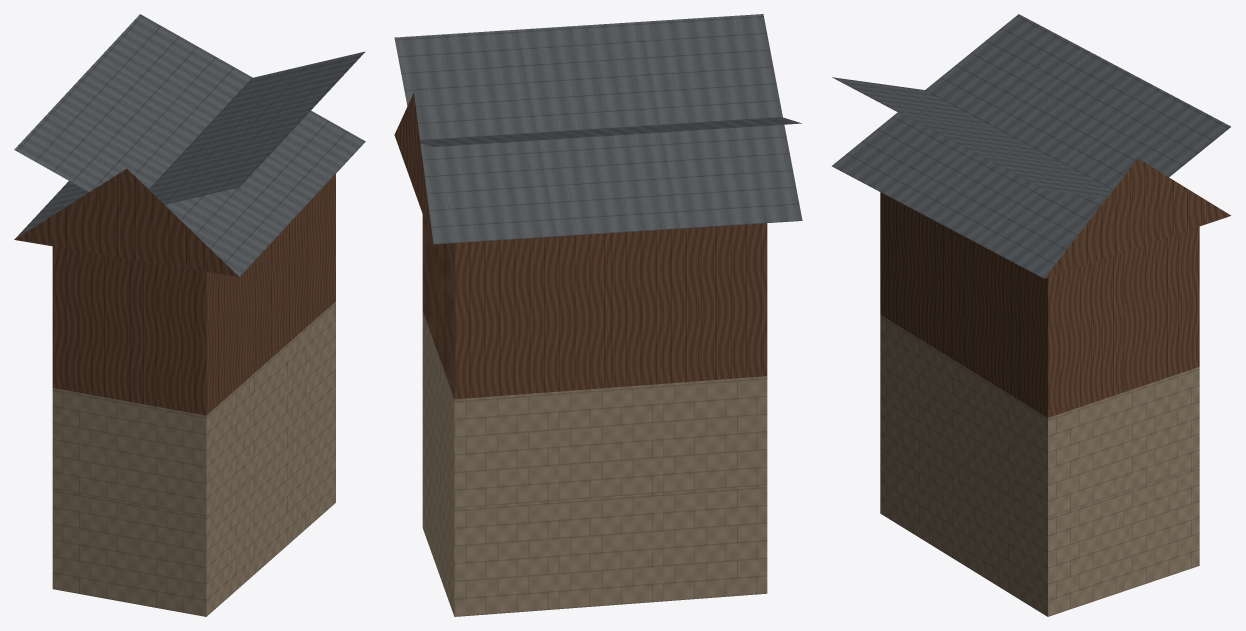
The model's file is bld_c44_-40_420.gltf.
The picture shows the model from 3 angles, left to right: view 1: azimuth 30°, elevation 25°; view 2: azimuth 150°, elevation 25°; view 3: azimuth 270°, elevation 25°; orthographic projection. The views are drawn at different scales.
Visible parts, largest first — view 1: bld_c44_-40_420; view 2: bld_c44_-40_420; view 3: bld_c44_-40_420.
Part boxes in pixels (x1,y1,x2,y2): bld_c44_-40_420: (14, 14, 365, 616); bld_c44_-40_420: (394, 14, 802, 616); bld_c44_-40_420: (831, 14, 1230, 616).
Size of the model in its own units: 9.12 by 10.65 by 8.77.
4 materials, 4 textured.
